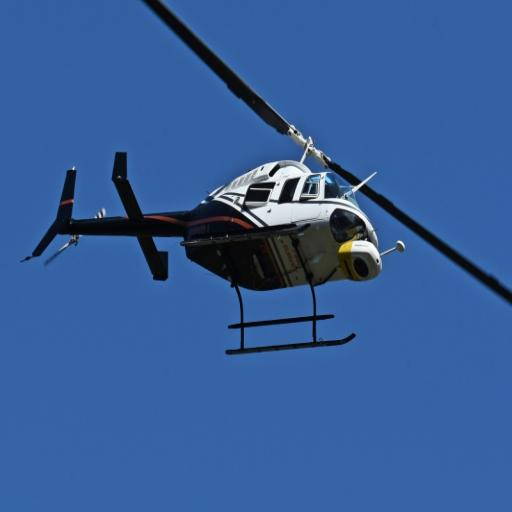helicopter: (24, 2, 512, 377)
